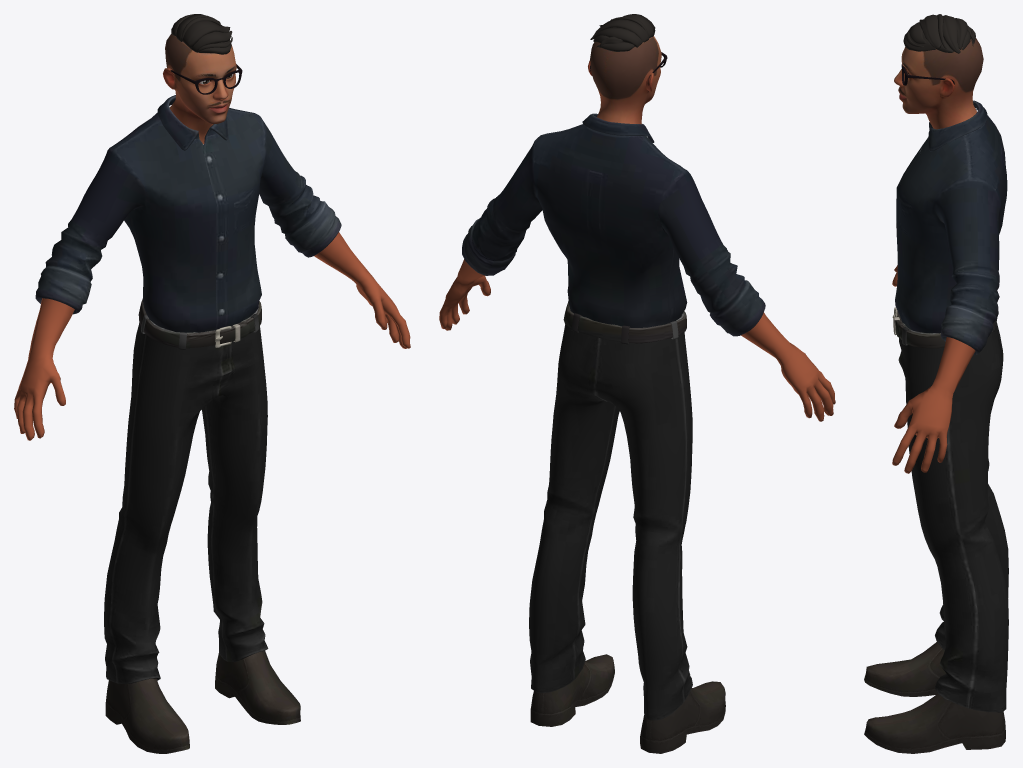
The model's file is unknown.gltf.
3 renders of one model, left to right at view 1: azimuth 30°, elevation 25°; view 2: azimuth 150°, elevation 25°; view 3: azimuth 270°, elevation 25°, orthographic.
Visible parts, largest first — view 1: Wolf3D_Outfit_Bottom, Wolf3D_Outfit_Top, Wolf3D_Outfit_Footwear, Wolf3D_Body, Wolf3D_Head, Wolf3D_Hair; view 2: Wolf3D_Outfit_Bottom, Wolf3D_Outfit_Top, Wolf3D_Outfit_Footwear, Wolf3D_Body, Wolf3D_Head, Wolf3D_Hair; view 3: Wolf3D_Outfit_Bottom, Wolf3D_Outfit_Top, Wolf3D_Outfit_Footwear, Wolf3D_Head, Wolf3D_Body, Wolf3D_Hair.
Boxes of the visible parts, x1,y1,x2,y2 form: Wolf3D_Outfit_Bottom: (104, 298, 268, 684); Wolf3D_Outfit_Top: (35, 95, 341, 332); Wolf3D_Outfit_Footwear: (105, 650, 300, 753); Wolf3D_Body: (14, 232, 410, 440); Wolf3D_Head: (163, 34, 236, 144); Wolf3D_Hair: (171, 14, 232, 54); Wolf3D_Outfit_Bottom: (529, 301, 692, 720); Wolf3D_Outfit_Top: (462, 113, 765, 336); Wolf3D_Outfit_Footwear: (530, 654, 725, 753); Wolf3D_Body: (439, 259, 835, 421); Wolf3D_Head: (588, 36, 661, 124); Wolf3D_Hair: (590, 14, 655, 51); Wolf3D_Outfit_Bottom: (892, 307, 1008, 712); Wolf3D_Outfit_Top: (895, 100, 1007, 355); Wolf3D_Outfit_Footwear: (864, 642, 1005, 753); Wolf3D_Head: (894, 38, 983, 129); Wolf3D_Body: (892, 265, 975, 473); Wolf3D_Hair: (903, 14, 975, 53).
Size of the model in its own units: 1.06 by 1.86 by 0.3489.
Materials: 10 (10 with a texture image).
